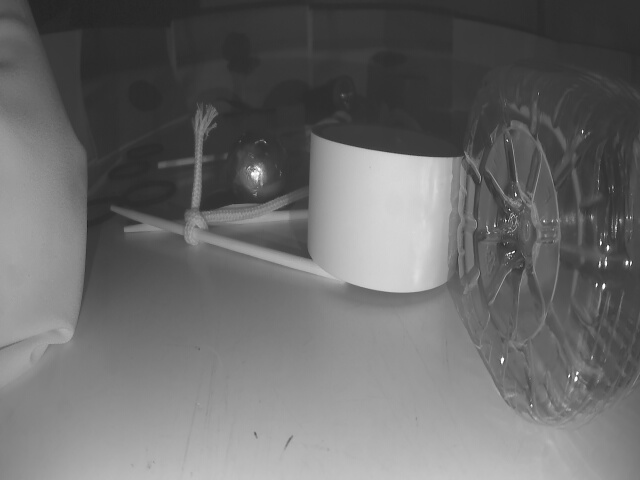Live: (223, 128, 283, 205)
